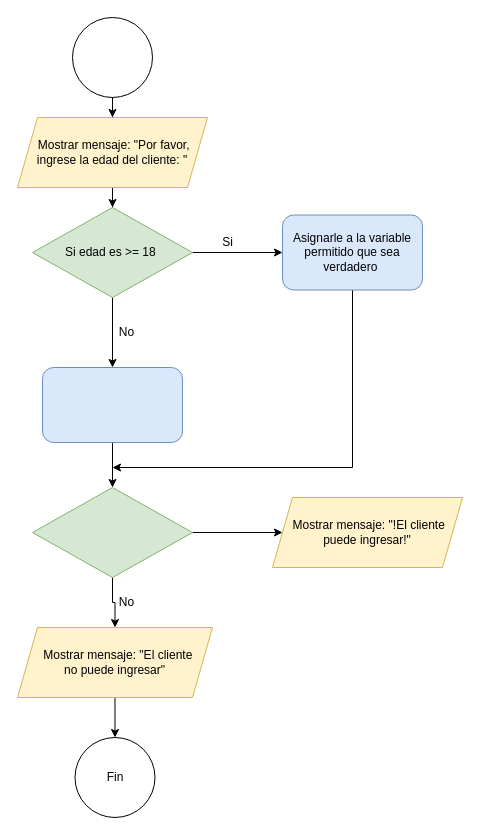
Some shapes in this 480 by 835 pixel diagram are drawn without their labels. The shapes that lost their labels are listed below. From the top down, each one's box as (x1, y1, x2, y2) in pixels, then its label:
(72, 16, 152, 98): Inicio
(42, 366, 182, 442): Asignarle a la variable permitido que sea falso
(32, 486, 192, 578): ¿Esta permitido el ingreso segun la edad?
